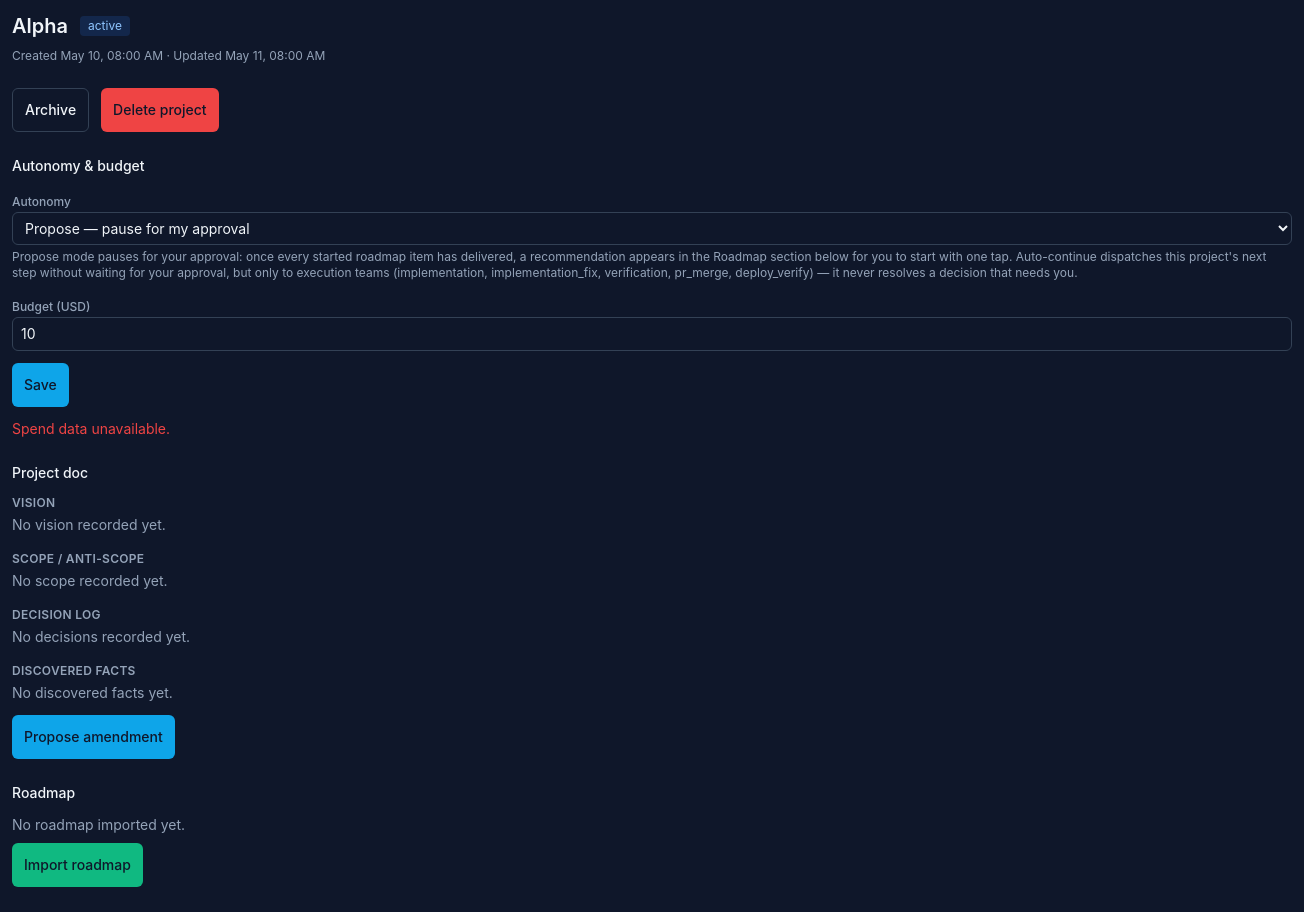
Test: Project › autonomy + budget editor › clearing the budget input saves a null budget
This screenshot has width=1304, height=912.
Expected: the heading "Alpha" is shown, 12,12 -> 68,40
Clear the field with test id "project-budget-input" at point(652, 334), box 12,317 -> 1292,351
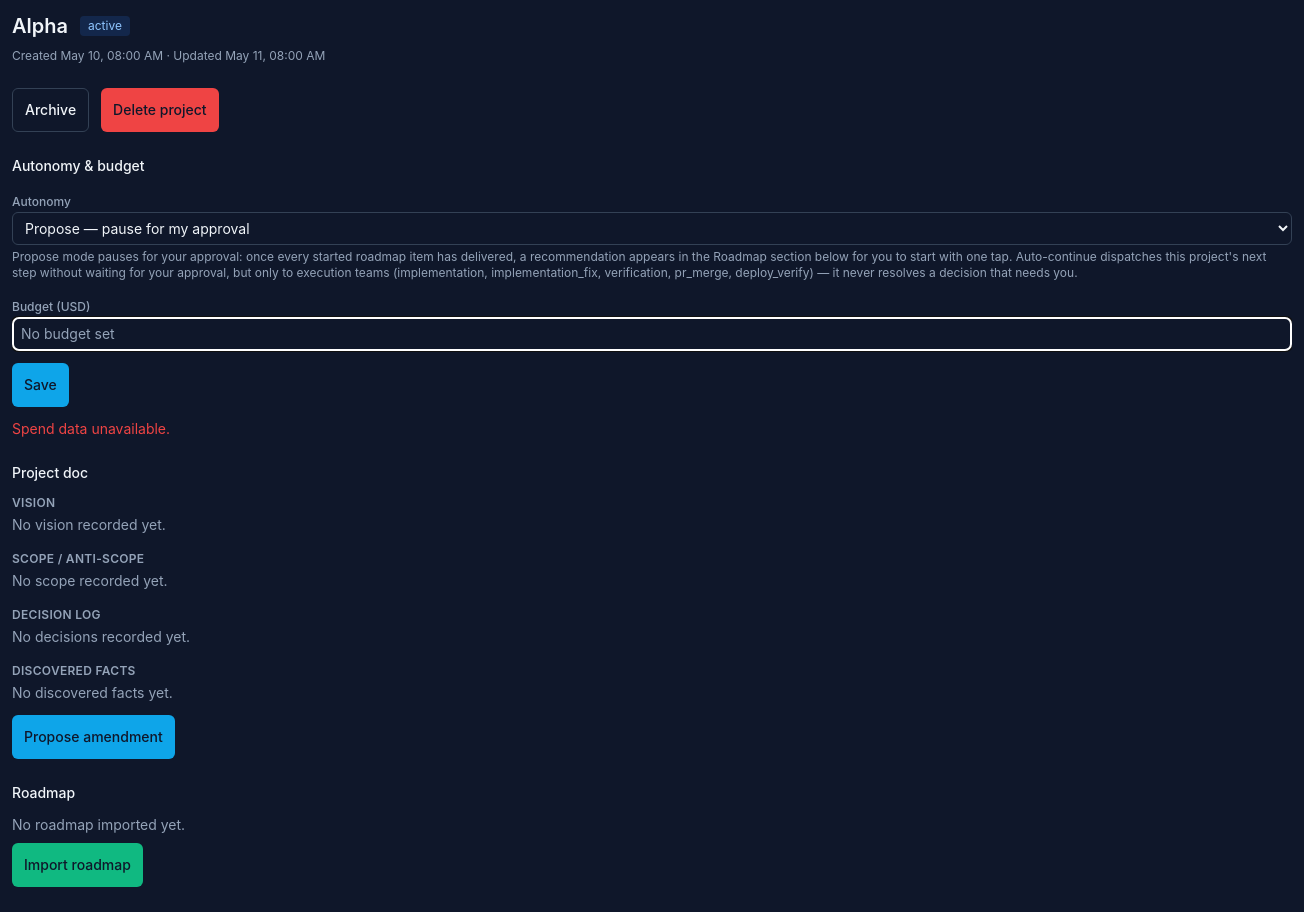
Click the button with test id "project-autonomy-save".
click(40, 385)  # box 12,363 -> 69,407
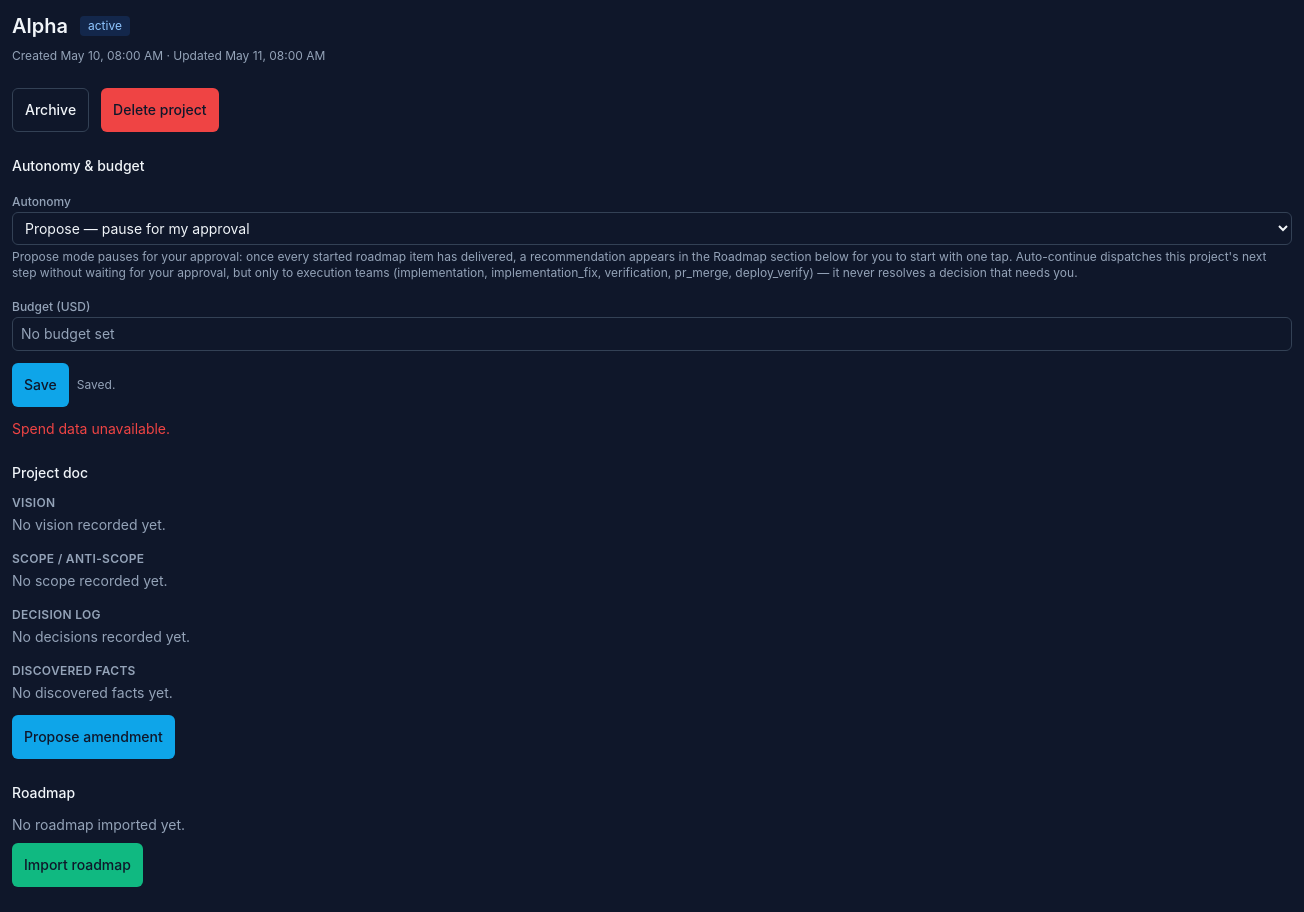
Result: the text "Saved." is shown at 77,377 -> 115,393
